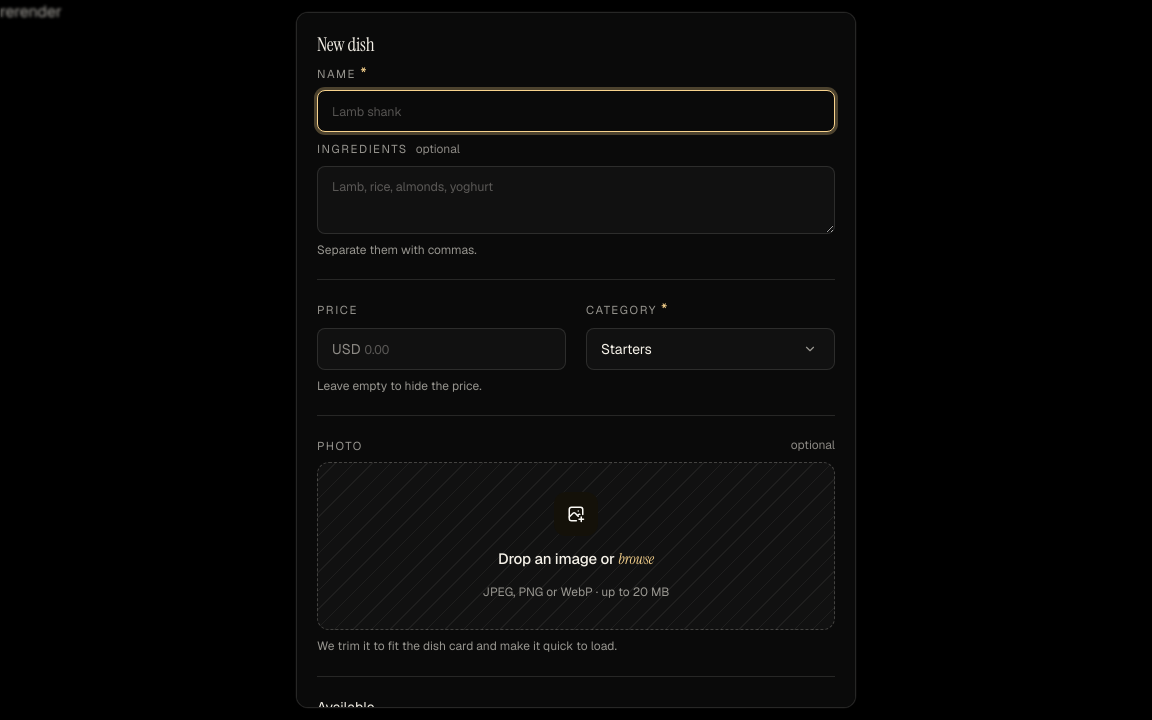
Test: DishDialog › tidies the ingredients into a clean list as the owner leaves the box
Type "onion,..tomato...ect" into the text box labelled "Ingredients optional" at (576, 200), box [318, 167, 834, 232]
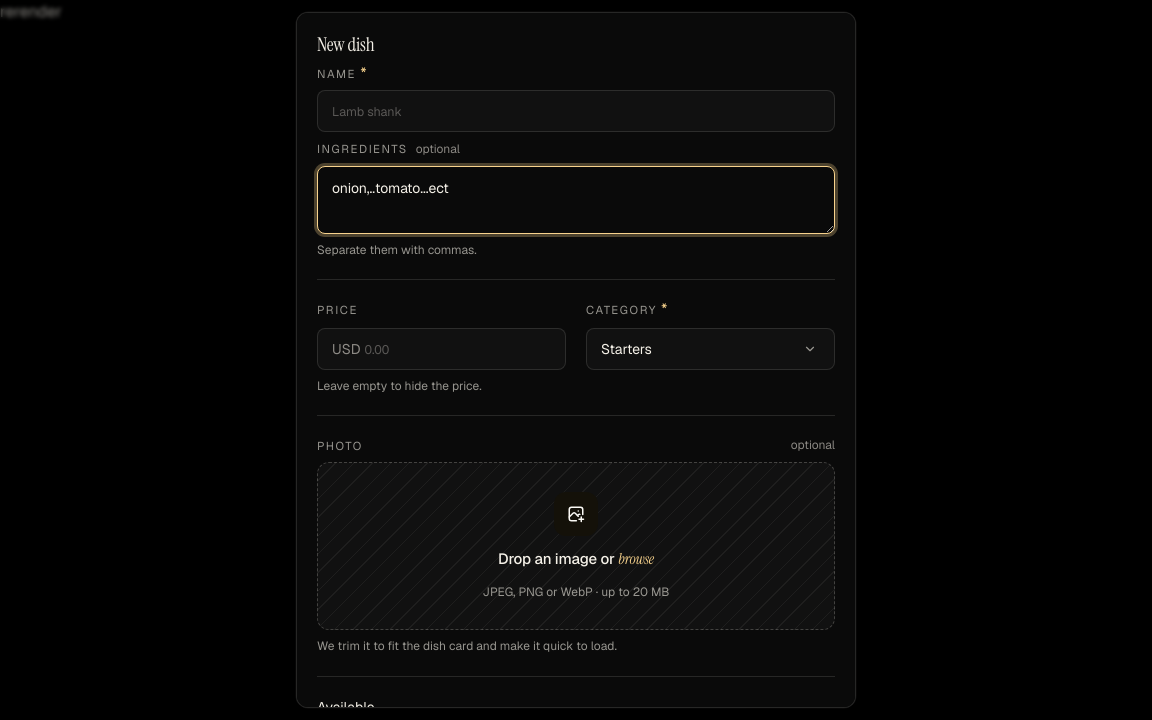
Press Tab
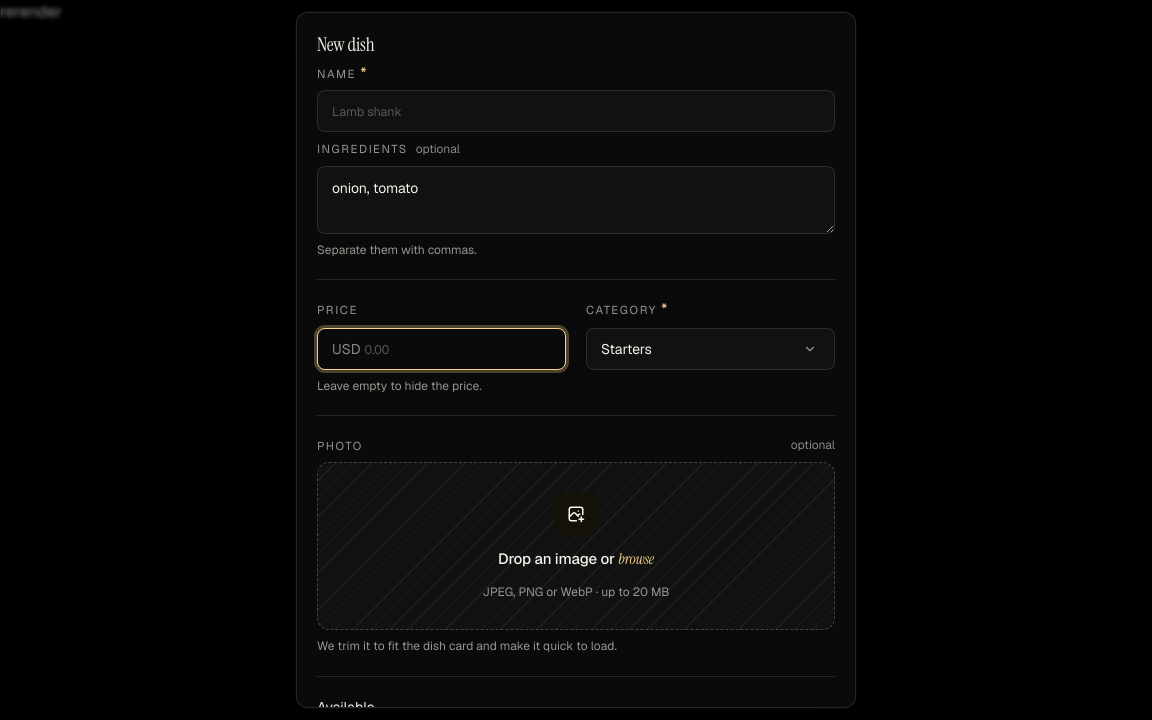
Check: the text box labelled "Ingredients optional" holds "onion, tomato", box [318, 167, 834, 232]
